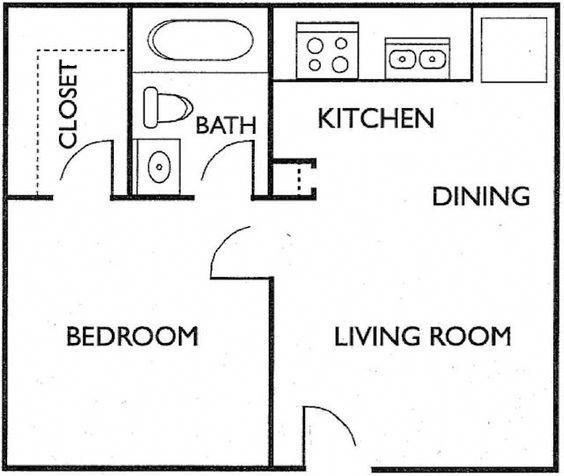door: (202, 220, 290, 295), (297, 398, 375, 476), (54, 137, 123, 198), (204, 128, 261, 199)
room: (261, 4, 564, 465), (5, 198, 279, 473), (120, 8, 277, 200), (4, 5, 137, 200)
wall: (3, 459, 525, 476), (263, 282, 285, 476), (102, 190, 203, 204)
window: (122, 12, 140, 203), (264, 4, 274, 194), (9, 188, 52, 205)
